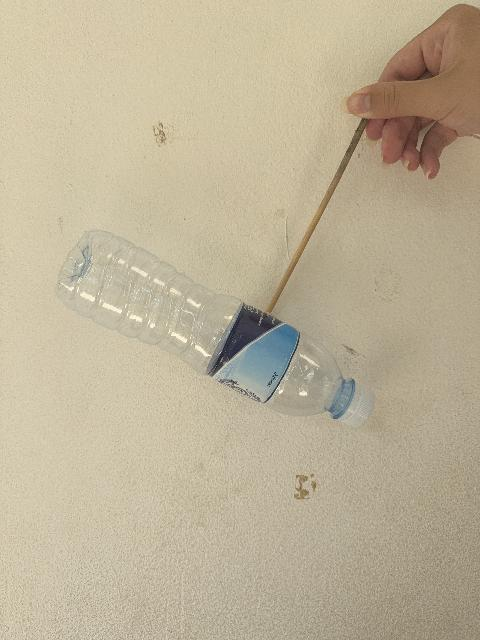bottle: (56, 230, 374, 426)
